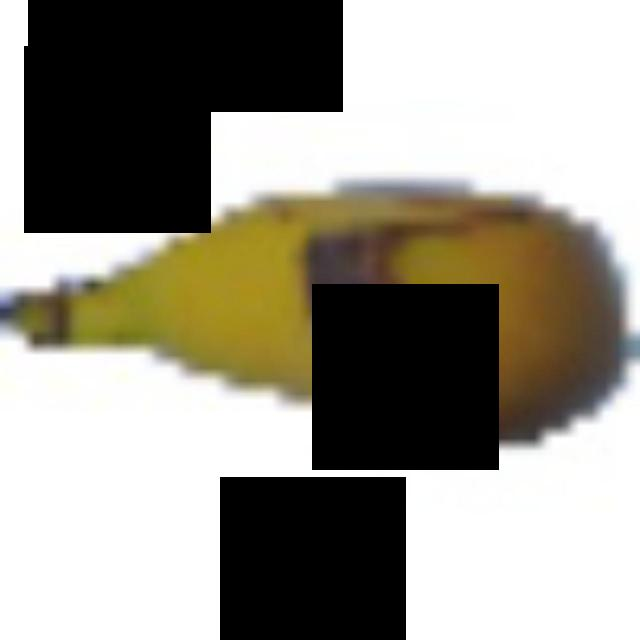banana: (0, 154, 634, 448)
